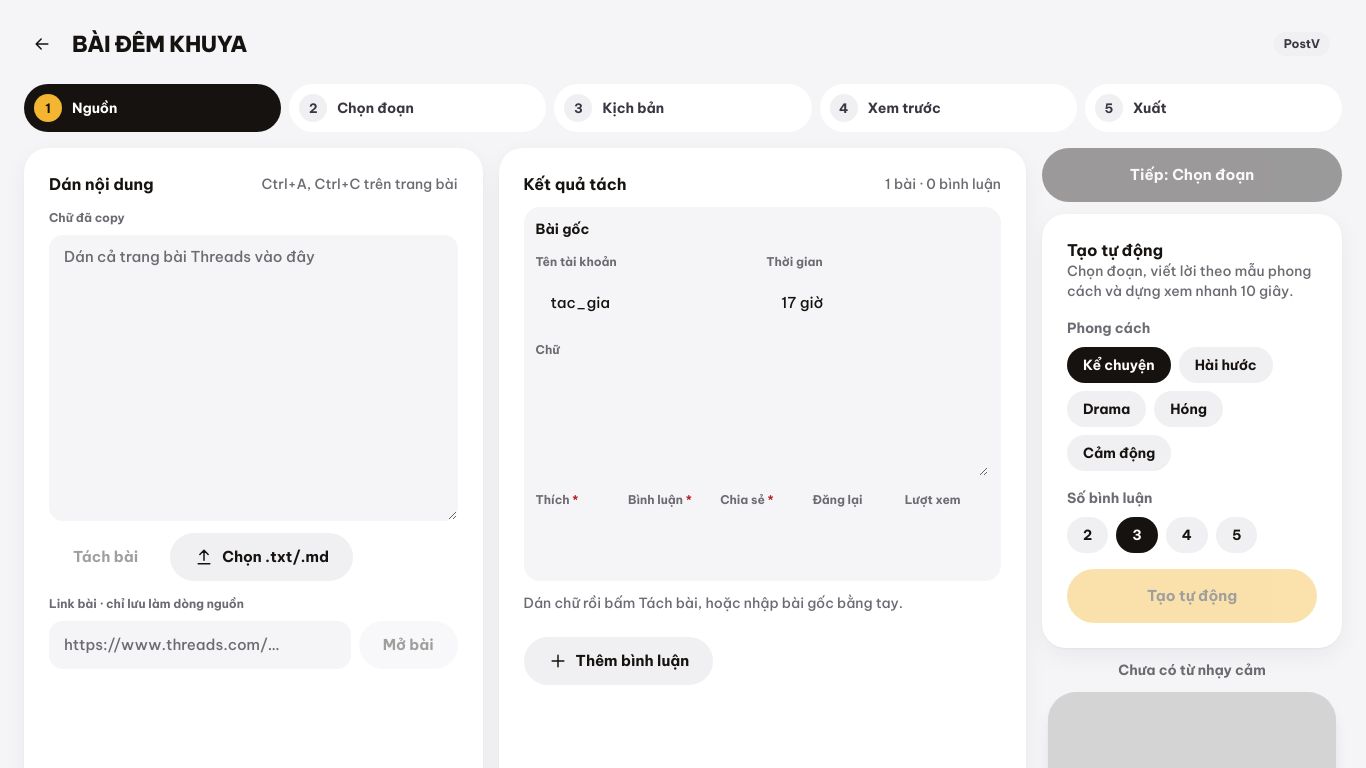
Test: Bước 1 · Nhập nguồn › splits pasted text, fills the post and the comments, and saves them
This screenshot has width=1366, height=768.
Step 1. Type "moi_a 17h ..." into the text box labelled "Chữ đã copy" → (253, 378), box [49,235,458,521]
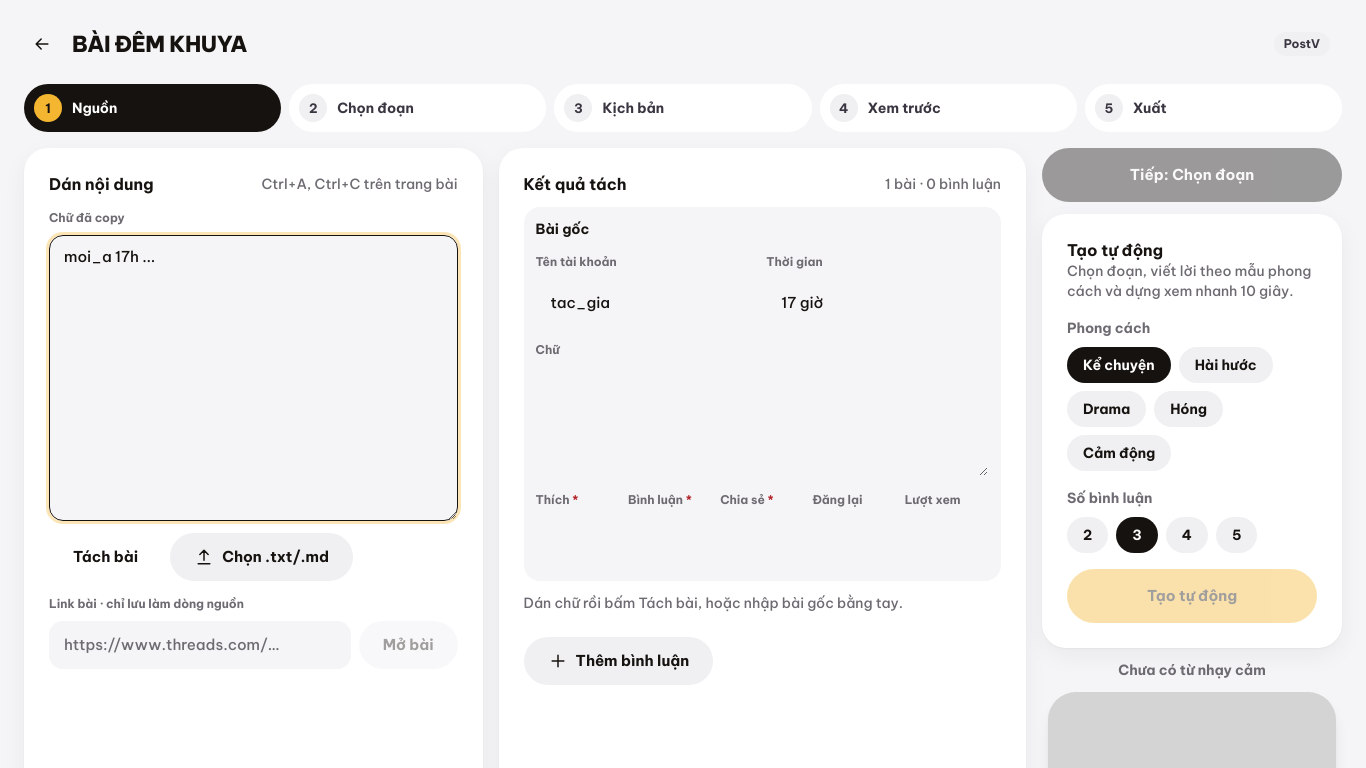
Step 2. Click the button "Tách bài" → (106, 557), box [49,533,162,581]
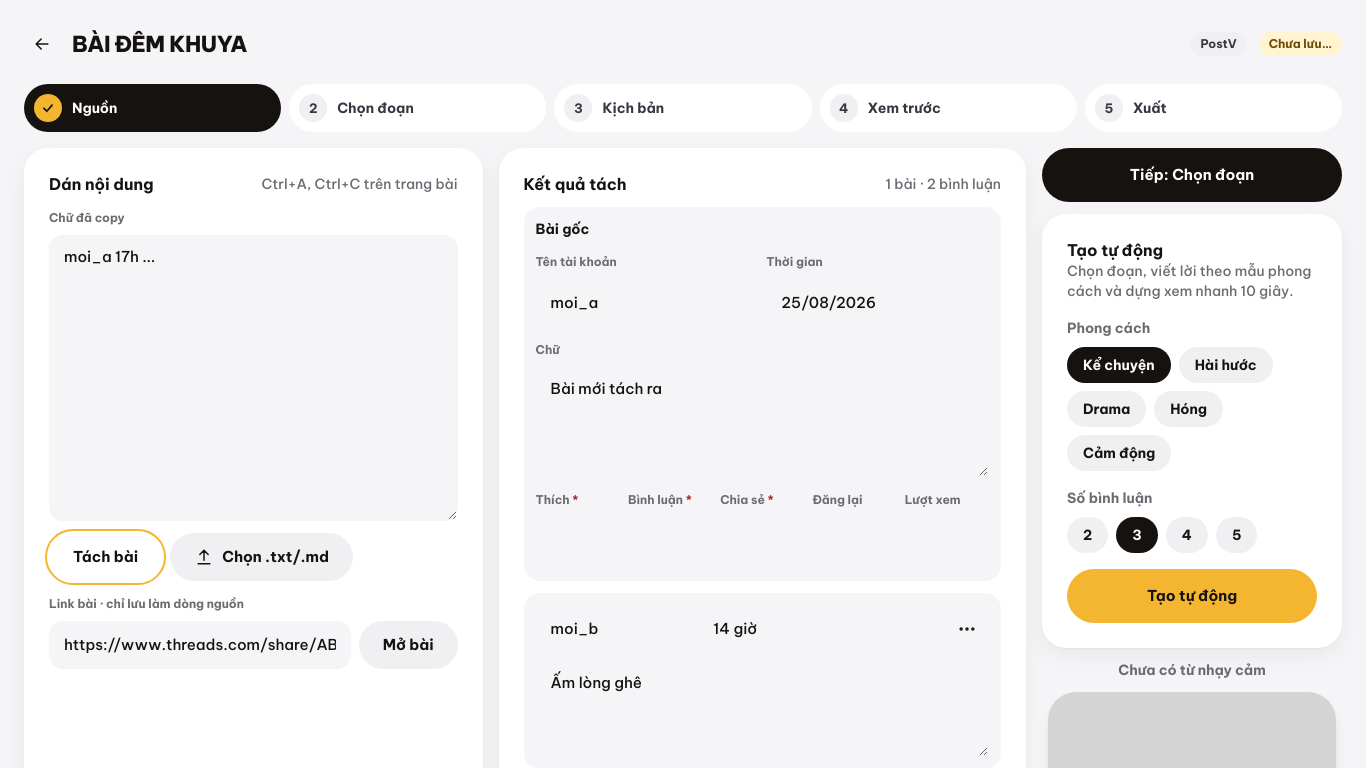
Expected: the field labelled "Tên tài khoản" holds "moi_a", [536,279,758,327]
Expected: the field labelled "Thời gian" holds "25/08/2026", [766,279,989,327]
Expected: the text "1 bài · 2 bình luận" is shown, [886,174,1001,194]
Step 3. Click the button "Tiếp: Chọn đoạn" → (1192, 175), box [1042,148,1342,202]
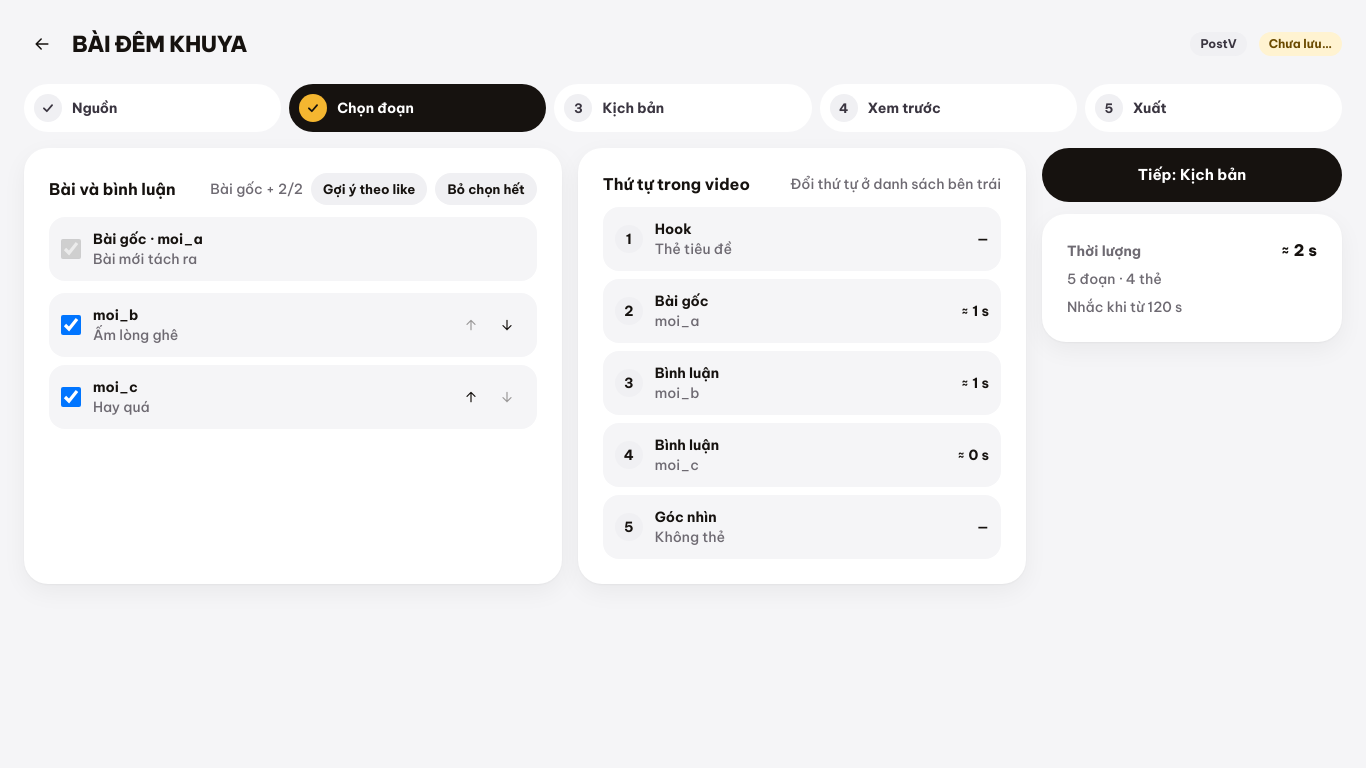
Expected: the element "Thứ tự trong video" is shown, [578,148,1026,584]
Expected: the text "Bài mới tách ra" is shown, [93,250,197,268]
